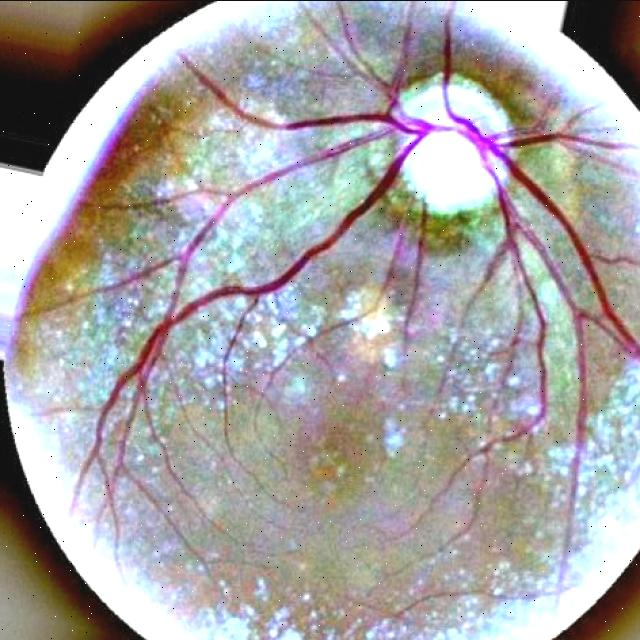Macula: (299, 423, 393, 522)
Nerves: (84, 16, 640, 473), (445, 23, 640, 356), (252, 136, 423, 294), (127, 290, 220, 374), (231, 102, 420, 132), (239, 110, 456, 133), (187, 60, 256, 121), (271, 113, 396, 127), (100, 378, 125, 428), (503, 134, 561, 146)
Optic Disk: (386, 73, 509, 214)
